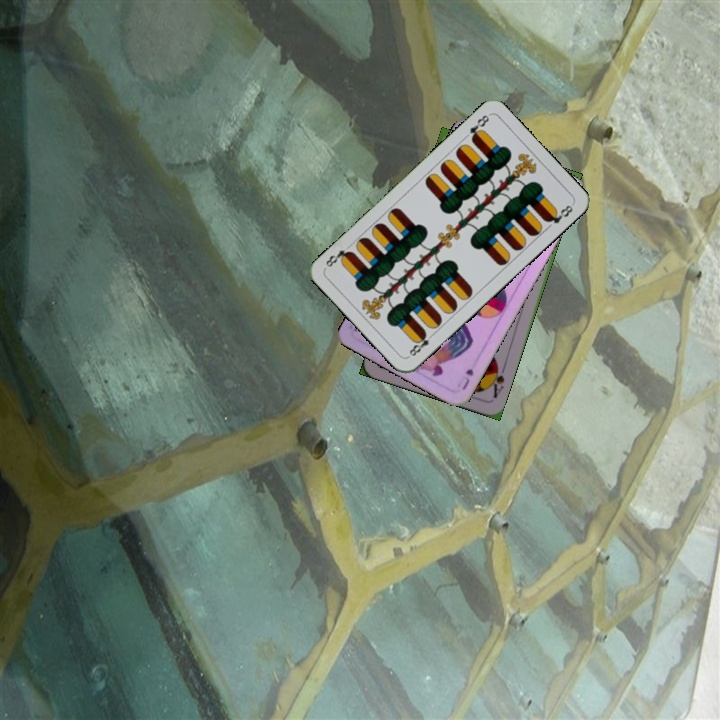E8: (404, 328, 438, 360), (465, 110, 492, 144)
SA: (485, 360, 508, 401)
SU: (453, 364, 476, 393)
